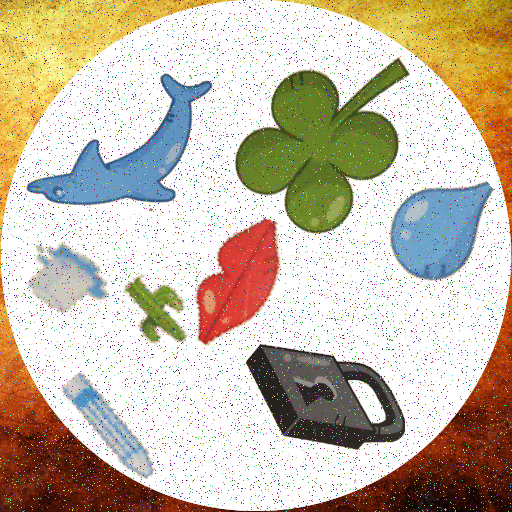cactus_icon: (115, 266, 200, 351)
cloverleaf_icon: (234, 53, 435, 254)
cube_icon: (16, 236, 110, 330)
dolphin_icon: (23, 49, 231, 257)
lips_icon: (174, 215, 316, 357)
lock_icon: (244, 313, 405, 474)
pen_icon: (48, 366, 172, 490)
raindrop_icon: (383, 165, 506, 288)
